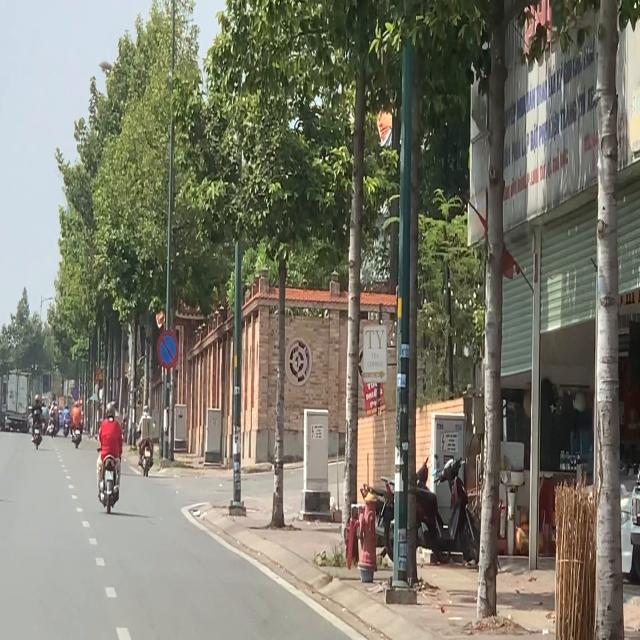Cam do: (157, 329, 179, 369)
Nguy hiem: (95, 366, 104, 381)
